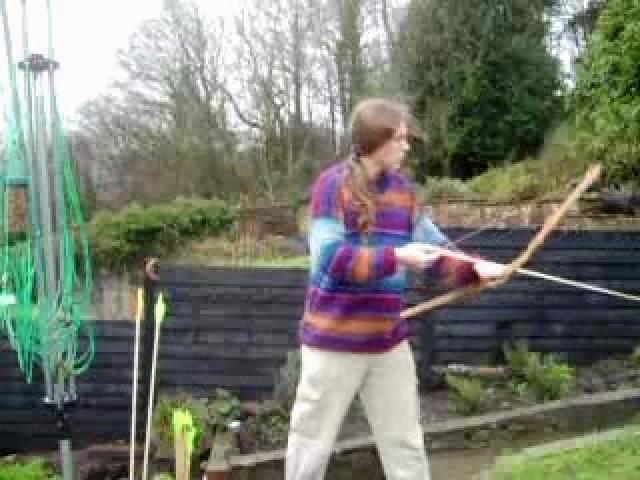I: (280, 88, 514, 480)
